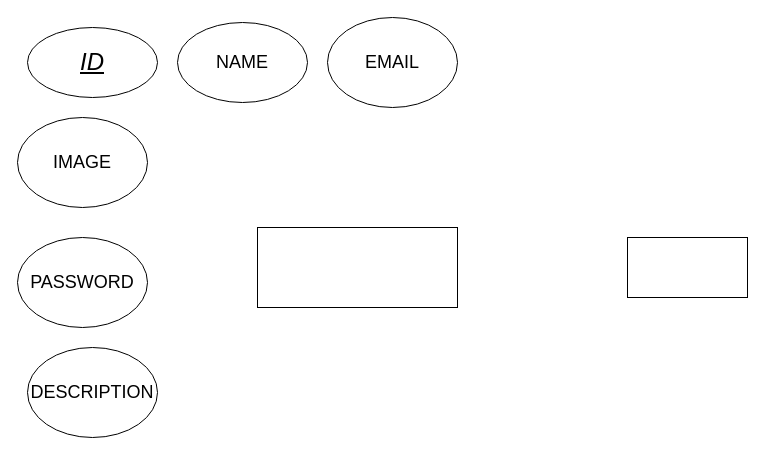
This 765x455 diagram has some shape labels left out. The shapes that lost their labels are listed below. From the top down, each one's centre as x and y in pixels, then its label:
At (x=357, y=267): "USER".
At (x=687, y=267): "CONTACT".
